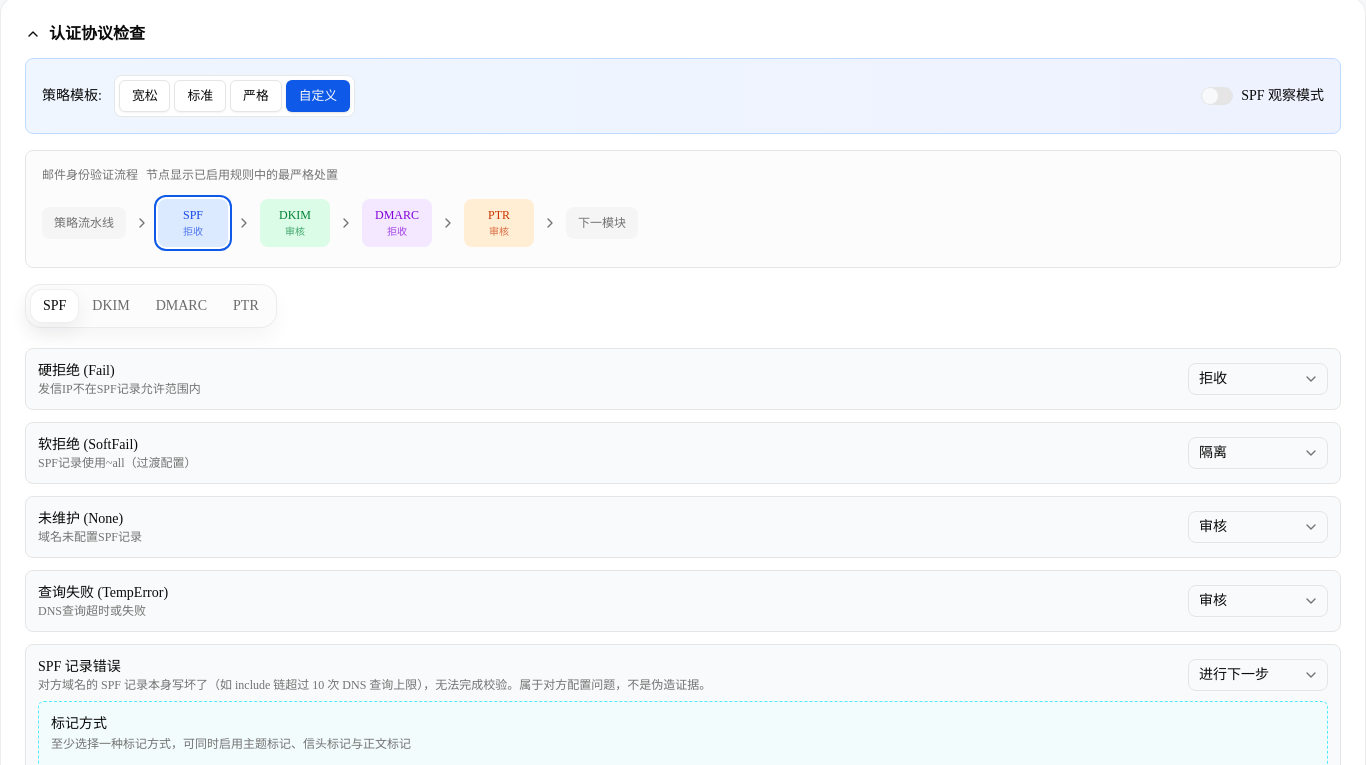
it: ProtocolChecksSection › shows DKIM permerror as proceed with optional marking controls
Click the tab "DKIM".
click(111, 306)  # box x1=79 y1=289 x2=143 y2=323
(page scrolled)
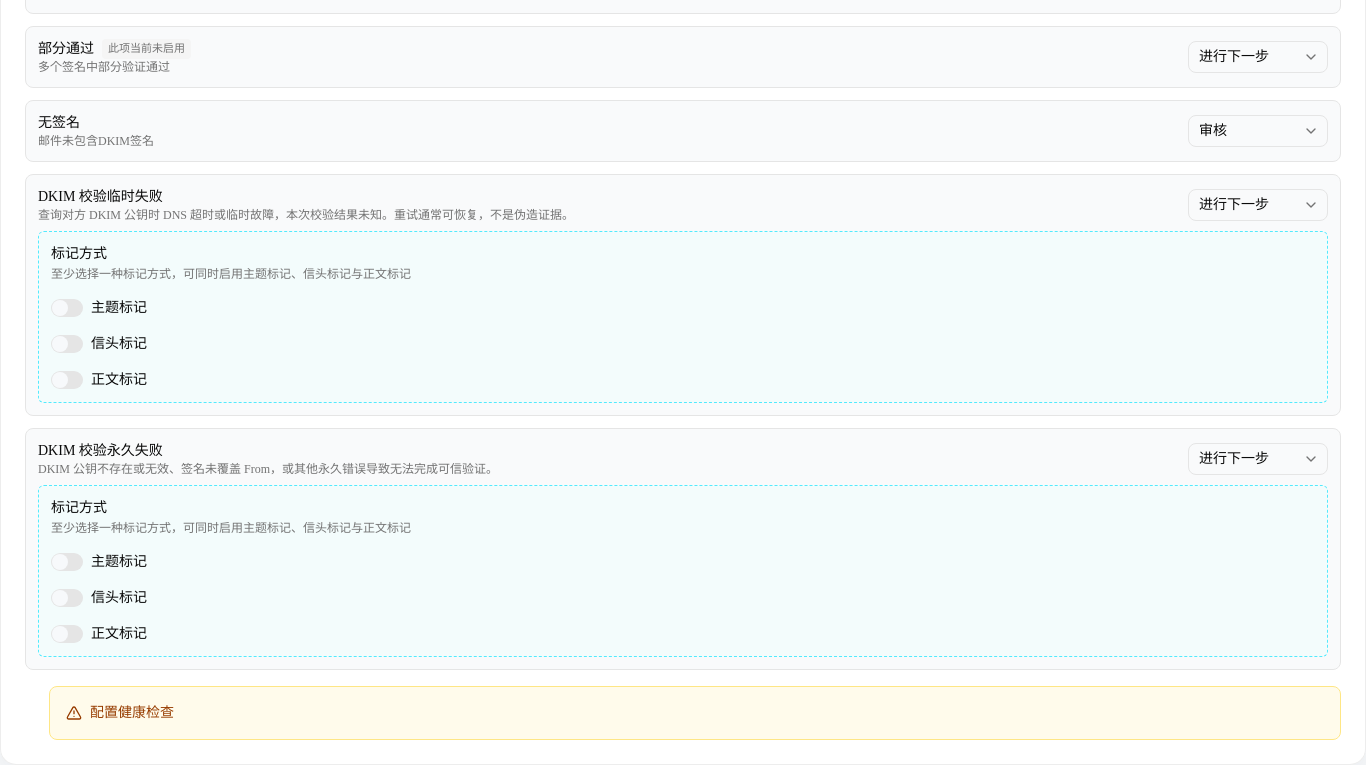
Expected: the 2nd element with test id "auth-spoofing-tag-panel" is shown, x1=38 y1=485 x2=1328 y2=657
Result: the text "DKIM 校验永久失败" is shown at x1=38 y1=441 x2=163 y2=461
Result: the dropdown with test id "protocol-check-action-dkim-permerror" shows "进行下一步" at x1=1188 y1=443 x2=1328 y2=475
